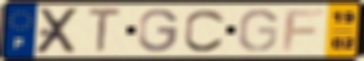C: (182, 7, 228, 54)
F: (280, 8, 327, 53)
G: (136, 7, 181, 54), (236, 8, 280, 53)
T: (86, 6, 124, 55)
X: (33, 7, 83, 56)
